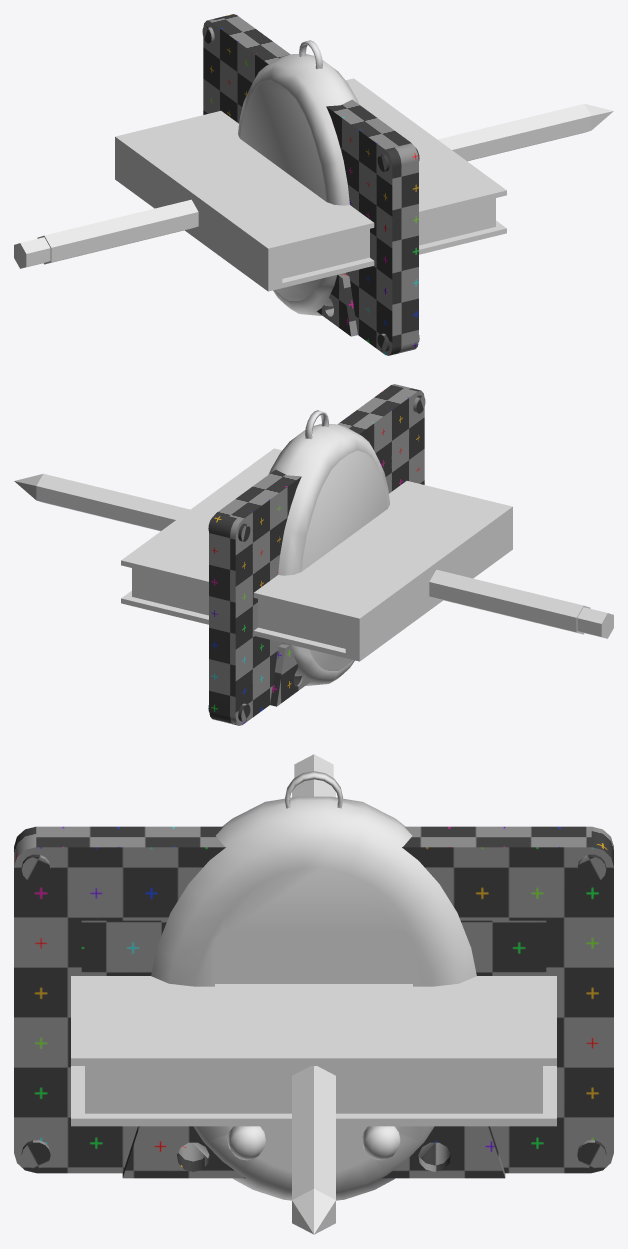
Rendered from Cassette.glb.
3 views of the same model, one above another, from view 1: azimuth 30°, elevation 25°; view 2: azimuth 150°, elevation 25°; view 3: azimuth 270°, elevation 25° (orthographic). The views are drawn at different scales.
Parts seen in each view (by area): view 1: Cube, Model, Tamogotchi, Pencil; view 2: Cube, Model, Tamogotchi, Pencil; view 3: Model, Cube, Tamogotchi, LCD, Pencil, Button2, Button0.
Part boxes in pixels (x1,y1,x2,y2): Cube: (115, 78, 506, 291); Model: (202, 14, 419, 355); Tamogotchi: (238, 40, 359, 315); Pencil: (14, 103, 613, 268); Cube: (121, 448, 512, 661); Model: (208, 384, 425, 725); Tamogotchi: (268, 410, 389, 685); Pencil: (14, 473, 613, 638); Model: (14, 826, 613, 1178); Cube: (71, 976, 556, 1126); Tamogotchi: (151, 771, 476, 1200); LCD: (215, 930, 412, 983); Pencil: (292, 754, 335, 1234); Button2: (362, 1126, 400, 1160); Button0: (227, 1126, 265, 1160).
Size of the model in its own units: 4.97 by 2.15 by 2.74.
Materials: 4 (2 with a texture image).
